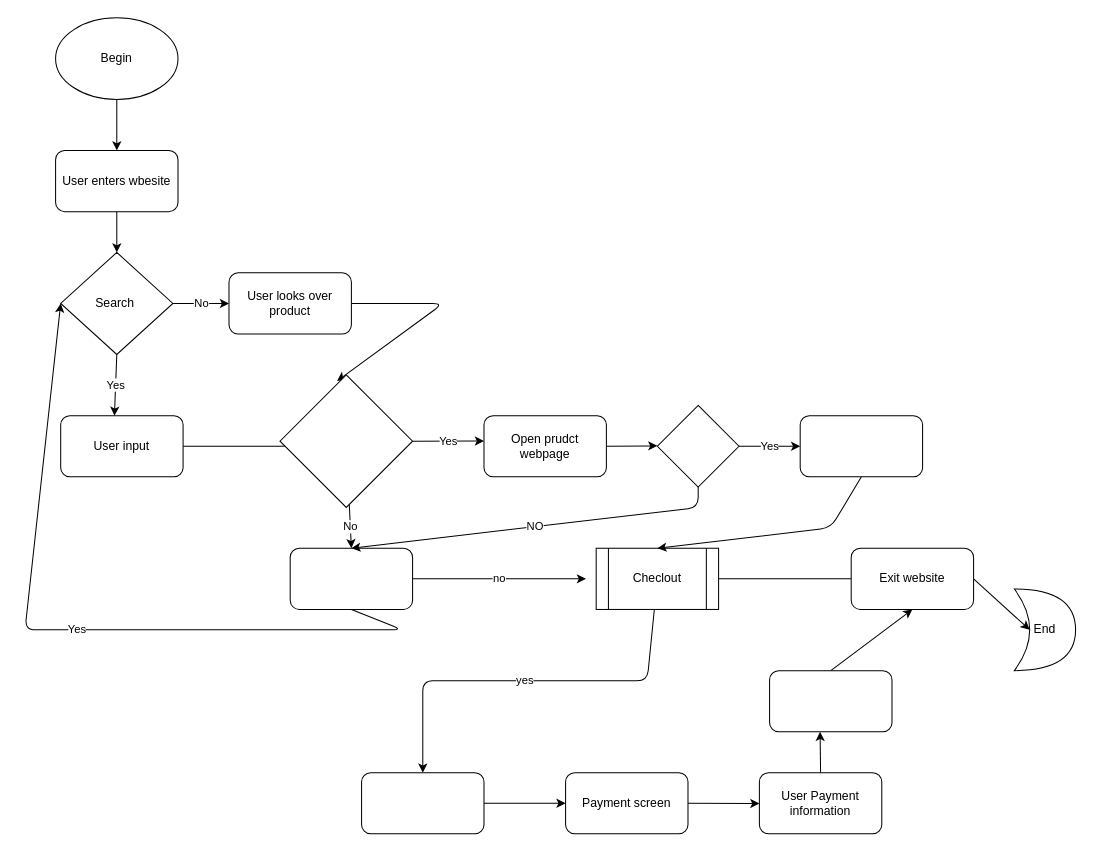
The diagram is 1093 pixels wide and 852 high, and some of its shapes have lost their labels. Each missing label, with the box of its shape:
Add to cart: (656, 404, 739, 487)
Add to cart confirmation: (799, 415, 923, 477)
Continue browsing: (289, 547, 413, 609)
Order confirmation and user receives email: (769, 670, 892, 732)
View Cart Screem: (361, 772, 484, 834)
View specfic product: (279, 374, 413, 507)
